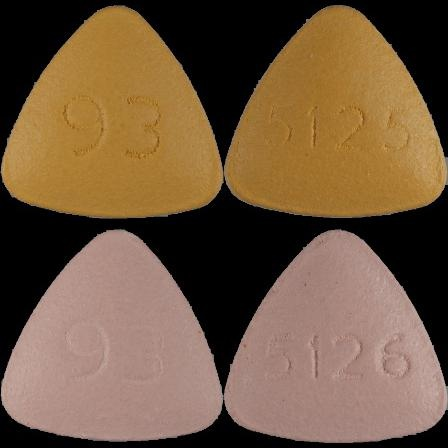0093-5125: (0, 0, 224, 224)
